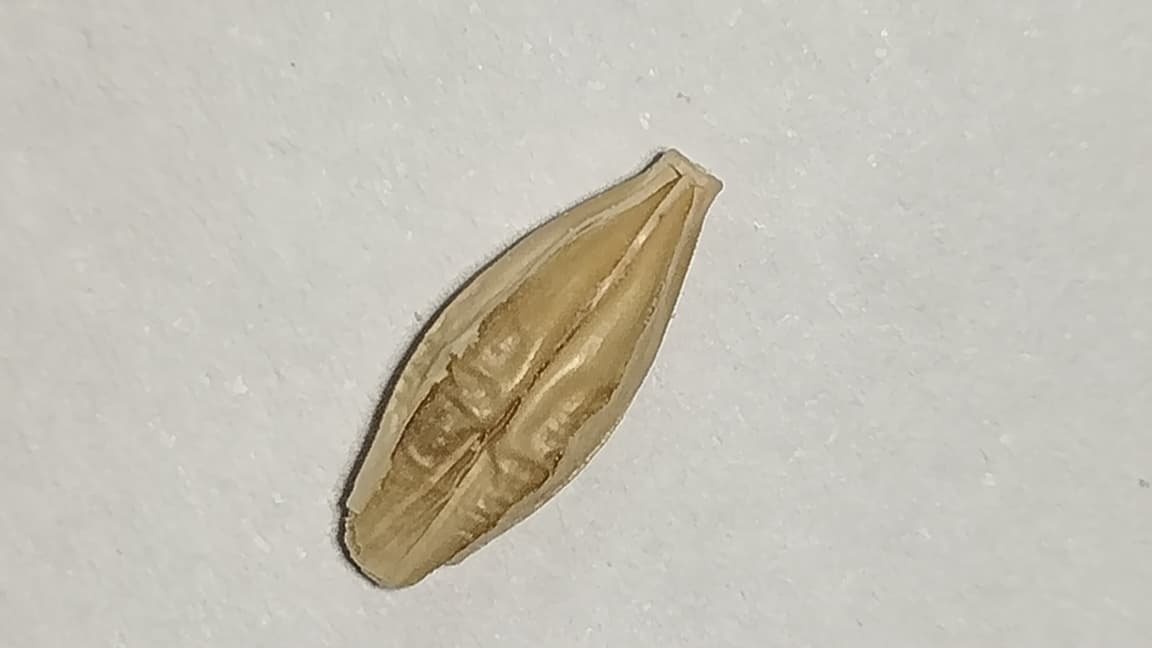healthy-50-40: (344, 151, 720, 587)
shriveledseed: (402, 333, 564, 542)
